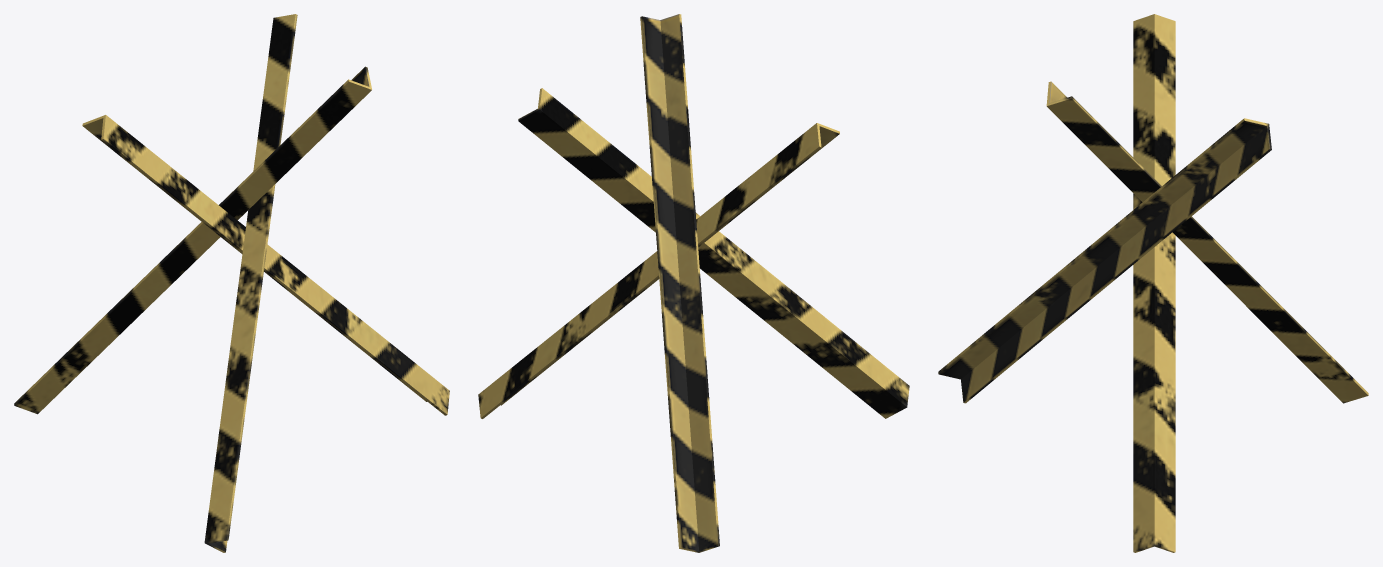
Rendered from SM_TrafficBarrier_1.fbx.
3 renders of one model, left to right at view 1: azimuth 30°, elevation 25°; view 2: azimuth 150°, elevation 25°; view 3: azimuth 270°, elevation 25°, orthographic. The views are drawn at different scales.
Visible parts, largest first — view 1: SM_TrafficBarrier_1_LOD0; view 2: SM_TrafficBarrier_1_LOD0; view 3: SM_TrafficBarrier_1_LOD0.
Part boxes in pixels (<box>): SM_TrafficBarrier_1_LOD0: <box>14,14,449,552</box>; SM_TrafficBarrier_1_LOD0: <box>478,14,909,552</box>; SM_TrafficBarrier_1_LOD0: <box>938,14,1368,552</box>.
Bounding box in the file's own units: 105 × 109 × 112.
1 material, 1 textured.
